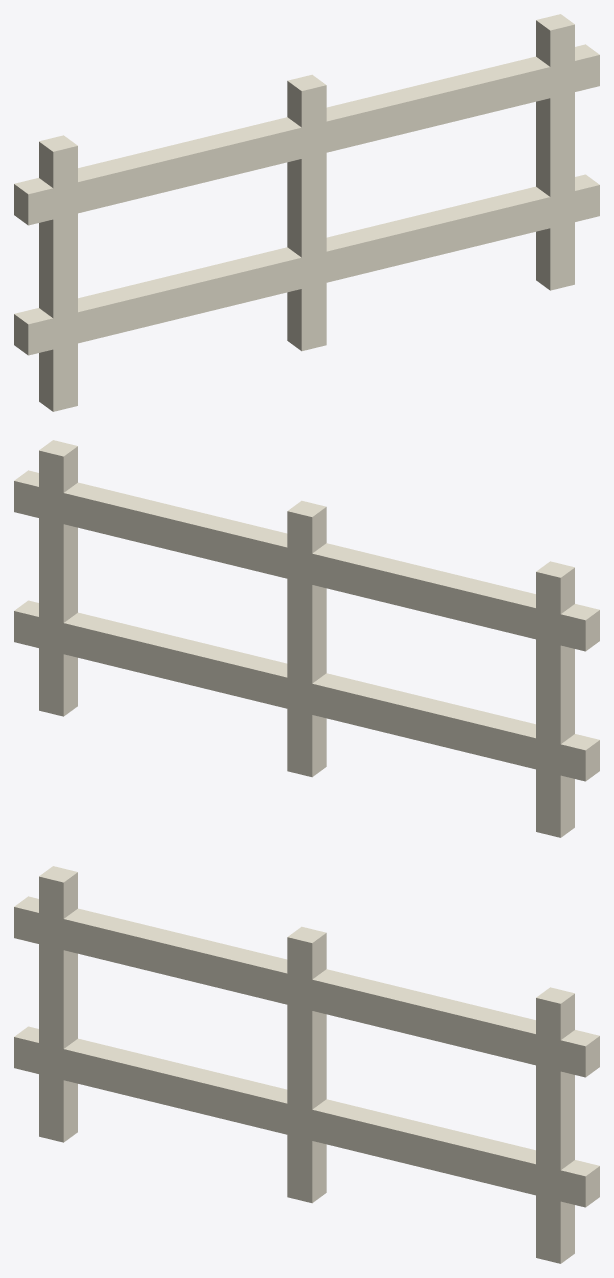
File: fence.glb
3 views of the same model, one above another, from view 1: azimuth 30°, elevation 25°; view 2: azimuth 150°, elevation 25°; view 3: azimuth 330°, elevation 25° (orthographic).
Visible parts, largest first — view 1: FenceMesh; view 2: FenceMesh; view 3: FenceMesh.
Boxes of the visible parts, x1,y1,x2,y2 form: FenceMesh: [14, 14, 599, 411]; FenceMesh: [14, 440, 599, 837]; FenceMesh: [14, 866, 599, 1263].
Size of the model in its own units: 2.3 by 1 by 0.1.
Materials: 1 (1 with a texture image).
